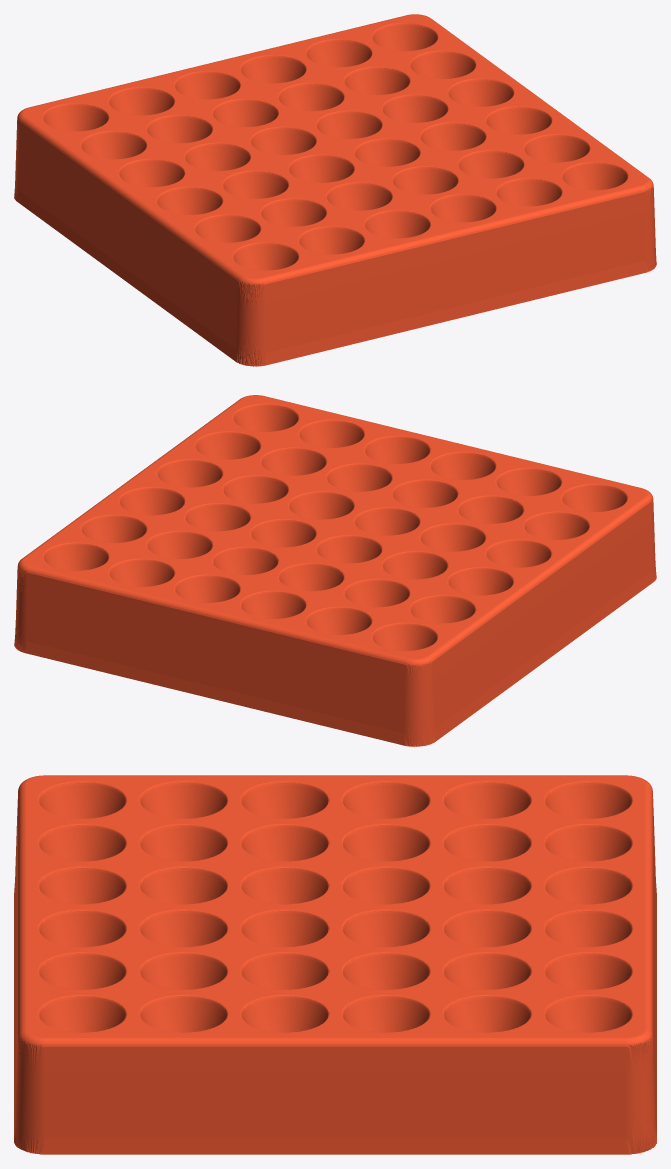
File: mold.glb
The picture shows the model from 3 angles, top to bottom: view 1: azimuth 30°, elevation 25°; view 2: azimuth 150°, elevation 25°; view 3: azimuth 270°, elevation 25°; orthographic projection. The views are drawn at different scales.
Parts seen in each view (by area): view 1: geometry_0; view 2: geometry_0; view 3: geometry_0.
Part boxes in pixels (x1,y1,x2,y2): geometry_0: (14, 14, 656, 366); geometry_0: (14, 395, 656, 746); geometry_0: (14, 775, 656, 1154).
Size of the model in its own units: 0.1877 by 0.036 by 0.1877.
